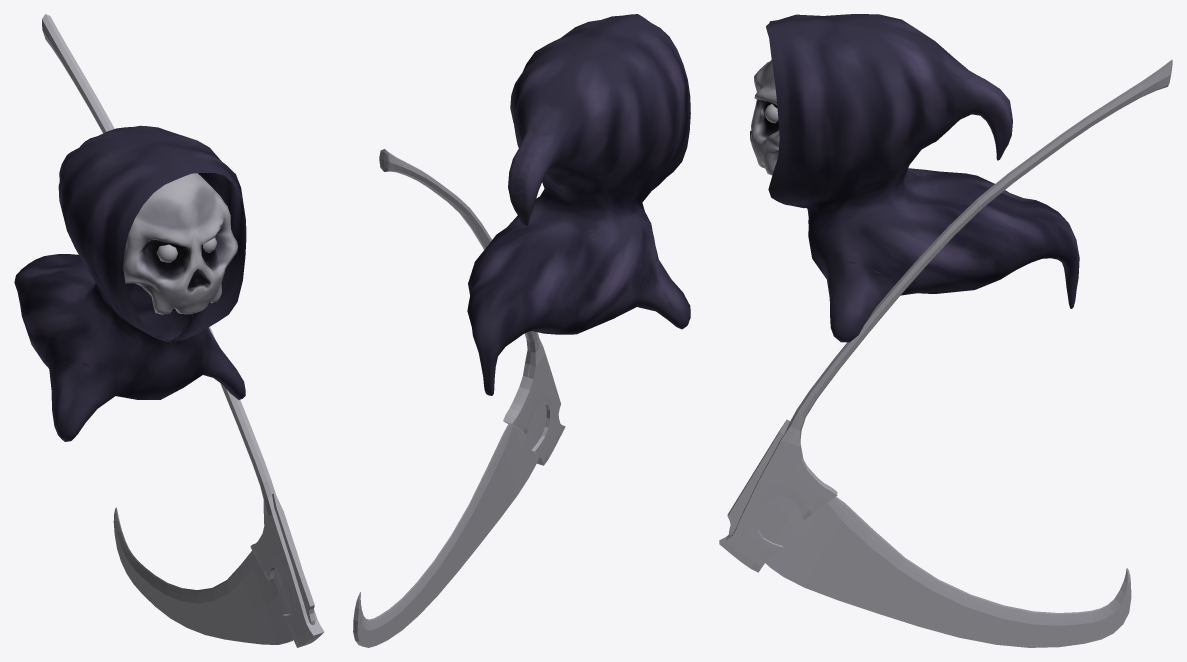
The model's file is Reaper.obj.
3 renders of one model, left to right at view 1: azimuth 30°, elevation 25°; view 2: azimuth 150°, elevation 25°; view 3: azimuth 270°, elevation 25°, orthographic. The views are drawn at different scales.
Visible parts, largest first — view 1: Plane, Plane.002, Cube.001; view 2: Plane, Plane.002; view 3: Plane, Plane.002, Cube.001.
Part boxes in pixels (x1,y1,x2,y2): Plane: (14, 125, 246, 441); Plane.002: (42, 14, 324, 647); Cube.001: (123, 173, 238, 314); Plane: (467, 14, 690, 395); Plane.002: (353, 149, 565, 647); Plane: (766, 14, 1079, 342); Plane.002: (719, 59, 1172, 647); Cube.001: (750, 60, 779, 175).
Bounding box in the file's own units: 1.03 × 2.7 × 1.95.
Materials: 2 (2 with a texture image).
